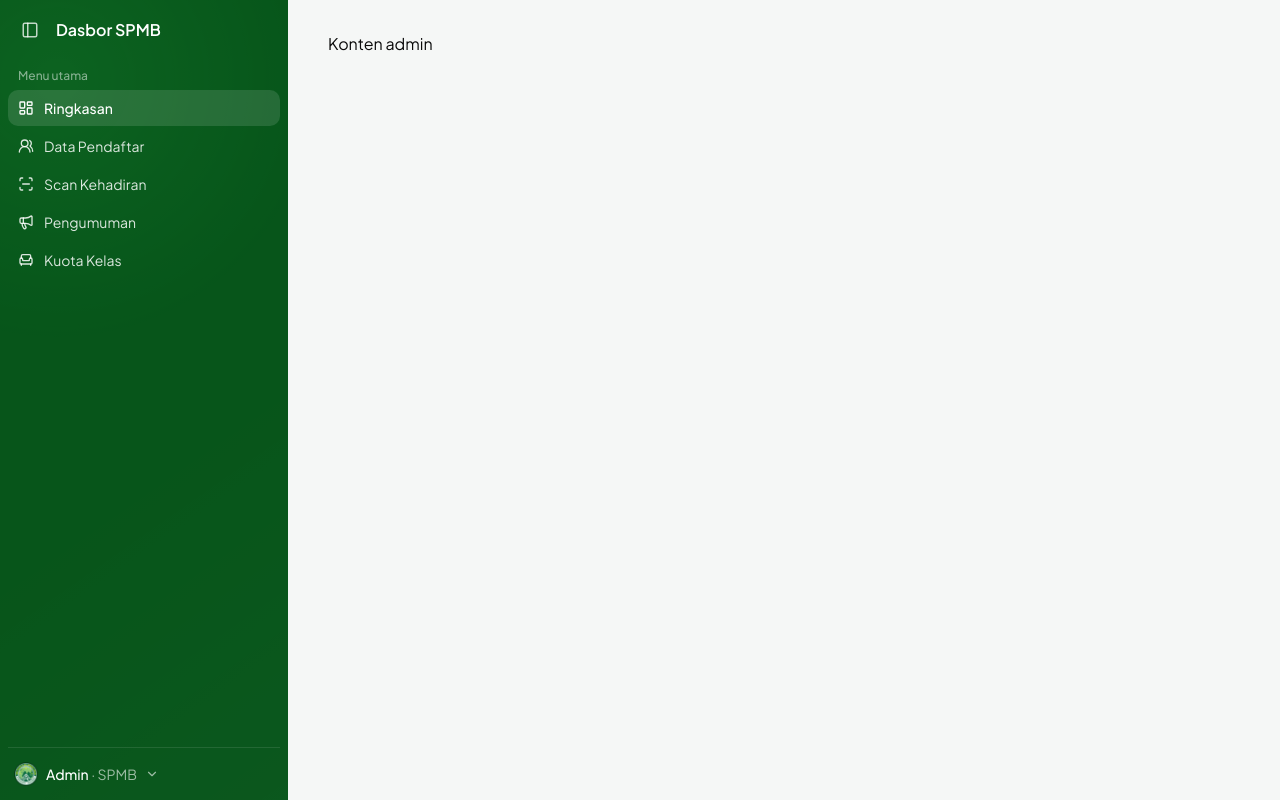
Test: AdminShell navigation › keeps logout inside the account menu
This screenshot has width=1280, height=800.
What coordinates should you click on to do the following:
click the button with aria-label "Menu akun admin"
I would click on:
 (86, 774)
Its box is 8,756 -> 165,792.
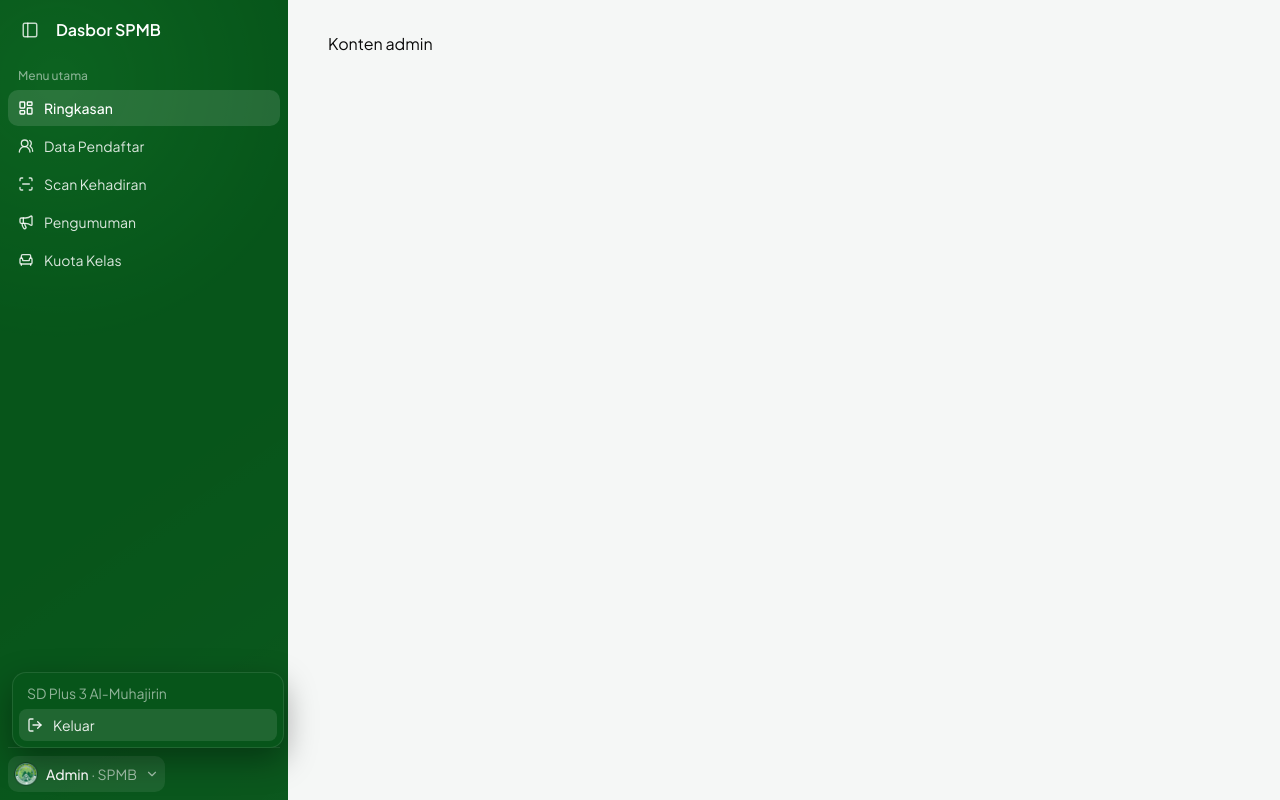
expect the button with aria-label "Keluar dari panel admin" is shown: met, box 19,709 -> 277,741
